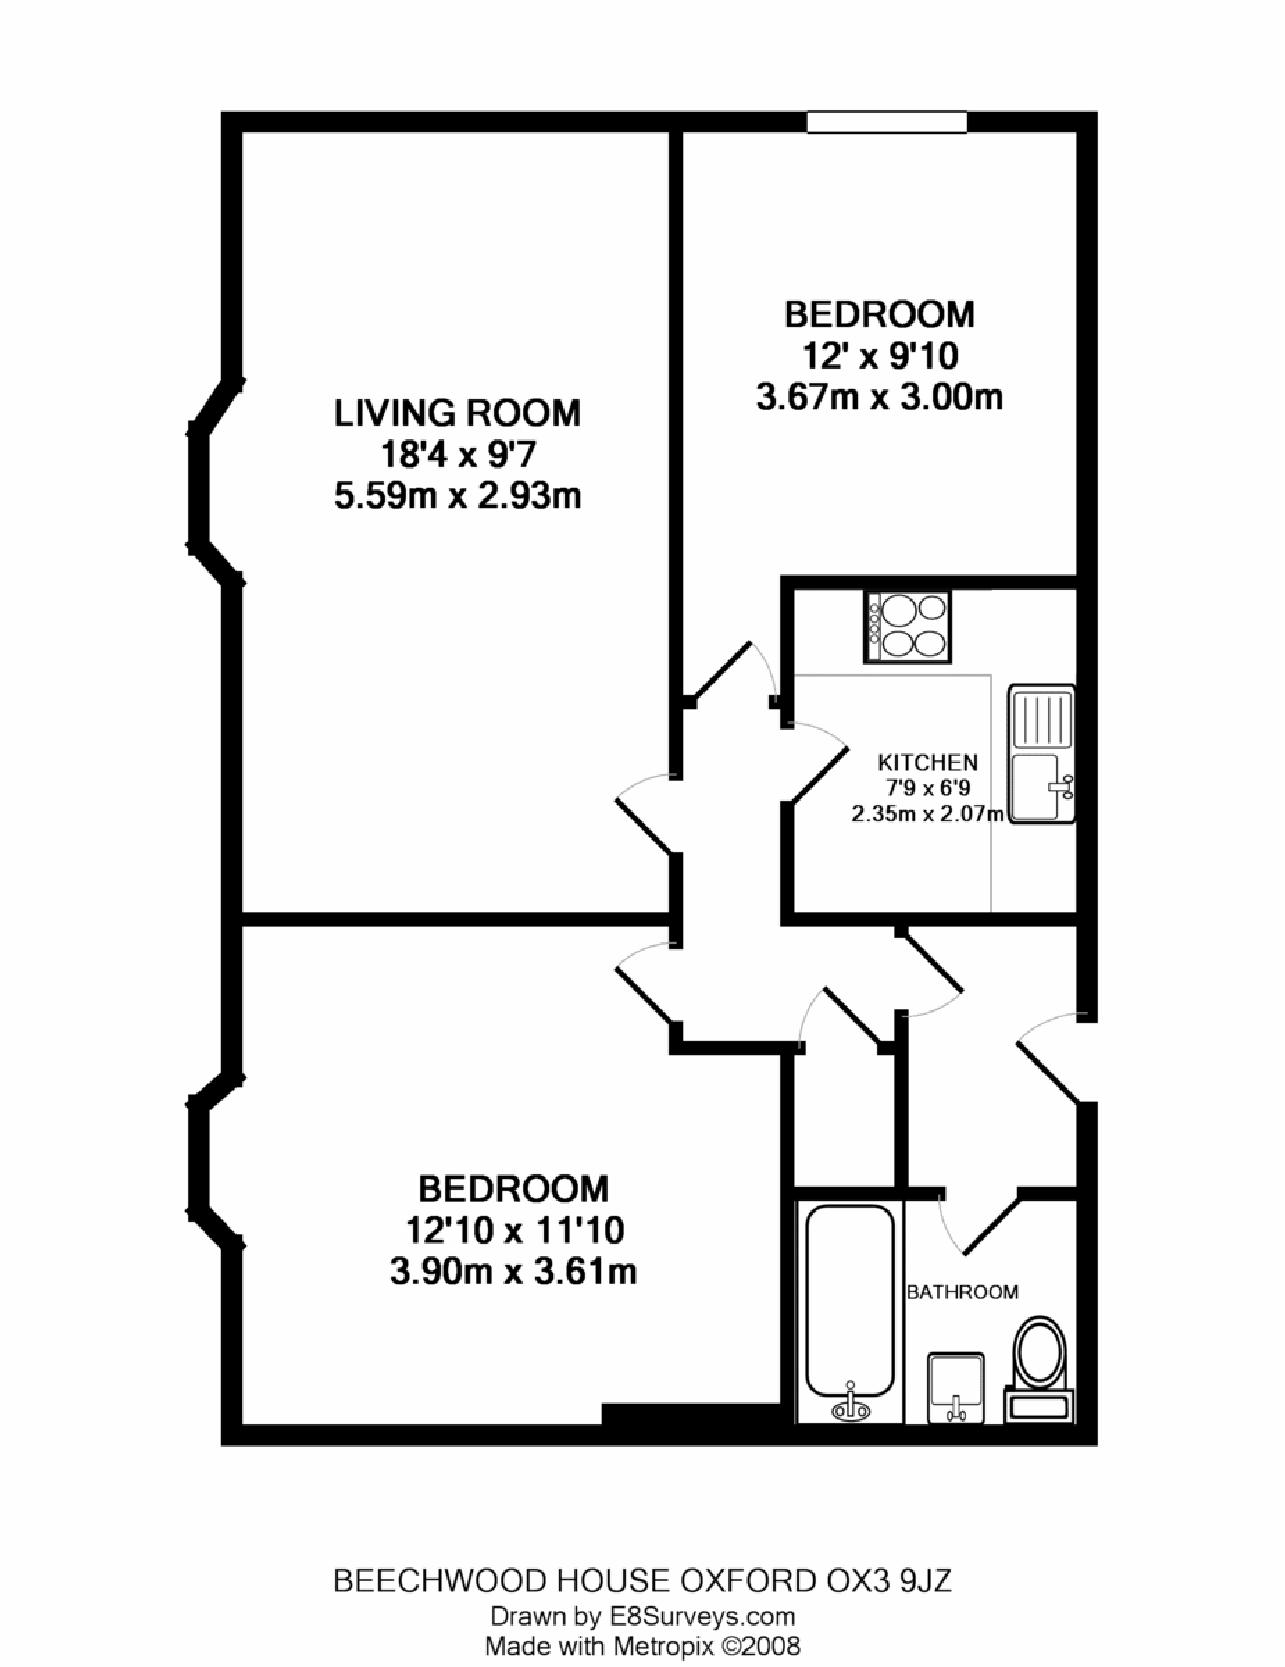room: (219, 109, 679, 931), (213, 912, 794, 1435), (668, 111, 1091, 589), (780, 575, 1096, 926), (788, 1188, 1103, 1446)
